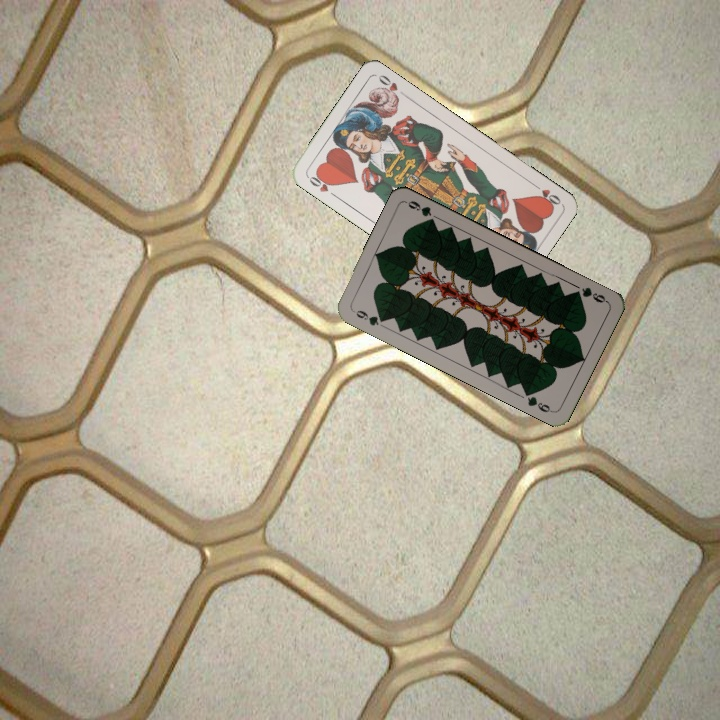G9: (569, 283, 610, 305), (349, 306, 389, 328)
HO: (304, 169, 339, 200), (528, 179, 563, 209)
